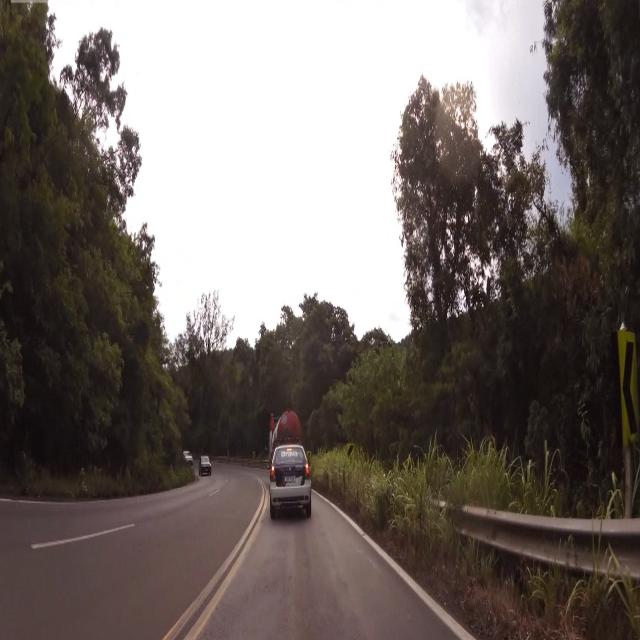Del: (612, 323, 640, 453)
